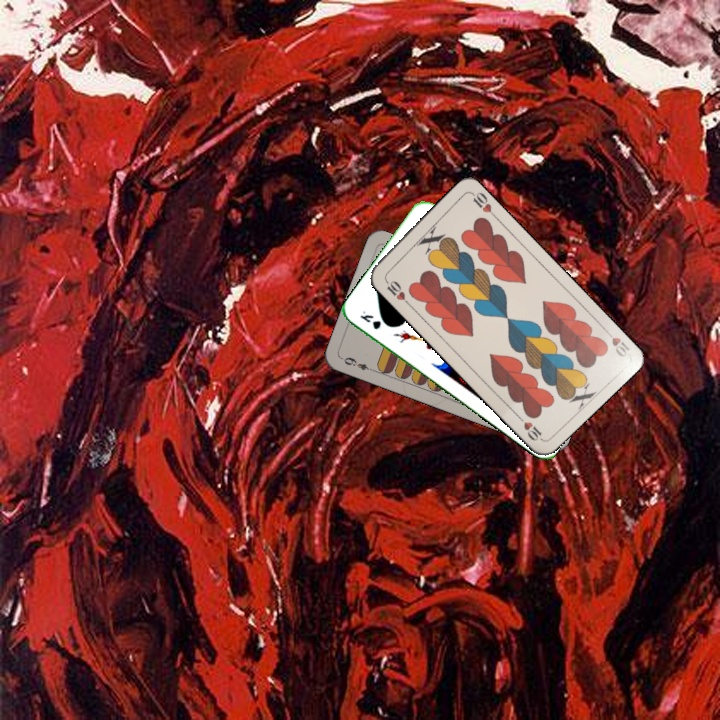E9: (338, 353, 377, 374)
GK: (356, 306, 384, 332)
H10: (600, 324, 633, 360), (380, 274, 412, 307)
